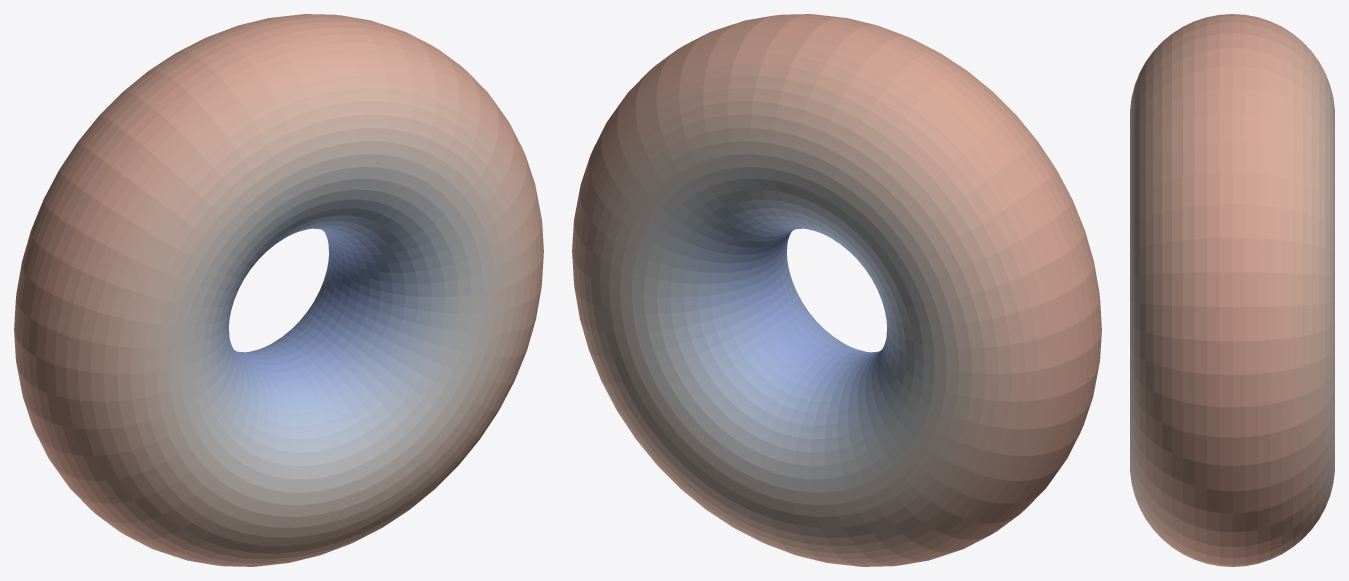
3 views of the same model, side by side, from view 1: azimuth 30°, elevation 25°; view 2: azimuth 150°, elevation 25°; view 3: azimuth 270°, elevation 25° (orthographic). The views are drawn at different scales.
Parts seen in each view (by area): view 1: world; view 2: world; view 3: world.
Boxes of the visible parts, x1=… form: world: x1=14, y1=14, x2=543, y2=566; world: x1=572, y1=14, x2=1101, y2=566; world: x1=1130, y1=14, x2=1334, y2=566.
Size of the model in its own units: 23.33 by 23.29 by 8.65.
